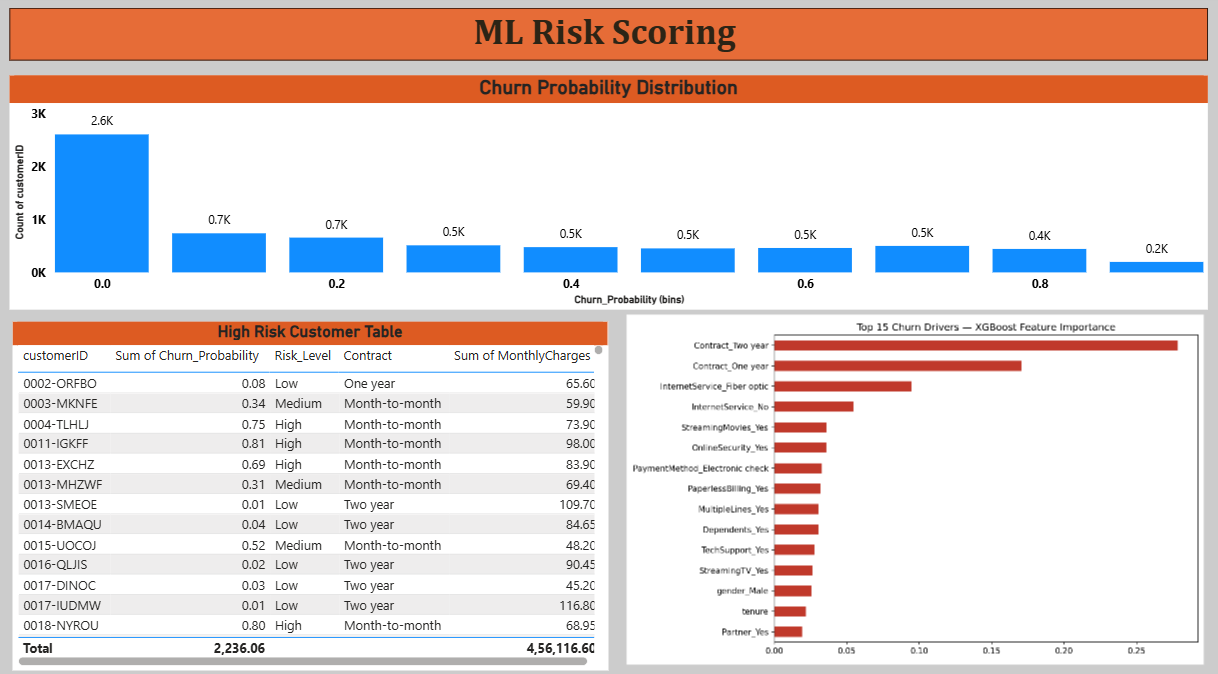

The page's visual inventory and layout, read from the dashboard file:
{"tool":"powerbi","page":{"name":"ML Risk Scoring","canvas":[1280,720],"ordinal":2},"visuals":[{"type":"tableEx","title":"High Risk Customer Table","fields":{"Values":["telco_cleaned.customerID","Sum(churn_predictions.Churn_Probability)","churn_predictions.Risk_Level","churn_predictions.Contract","Sum(churn_predictions.MonthlyCharges)"]},"box":[20,341.7,620,363.3],"z":0},{"type":"clusteredColumnChart","title":"Churn Probability Distribution","fields":{"Category":["churn_predictions.Churn_Probability (bins)"],"Y":["CountNonNull(churn_predictions.customerID)"]},"box":[17.2,86,1248.8,243.8],"z":1000},{"type":"image","box":[655,330,611.7,375],"z":2000},{"type":"textbox","box":[17.2,15.6,1248.8,54.7],"z":3000}]}

Visuals, with their boxes in screenshot pixels (x1, y1, x2, y2), scaled from the page's 1280x720 canvas onto the 1218x674 screenshot:
"High Risk Customer Table" tableEx: region(19, 320, 609, 660)
"Churn Probability Distribution" clusteredColumnChart: region(16, 81, 1205, 309)
image: region(623, 309, 1205, 660)
textbox: region(16, 15, 1205, 66)
